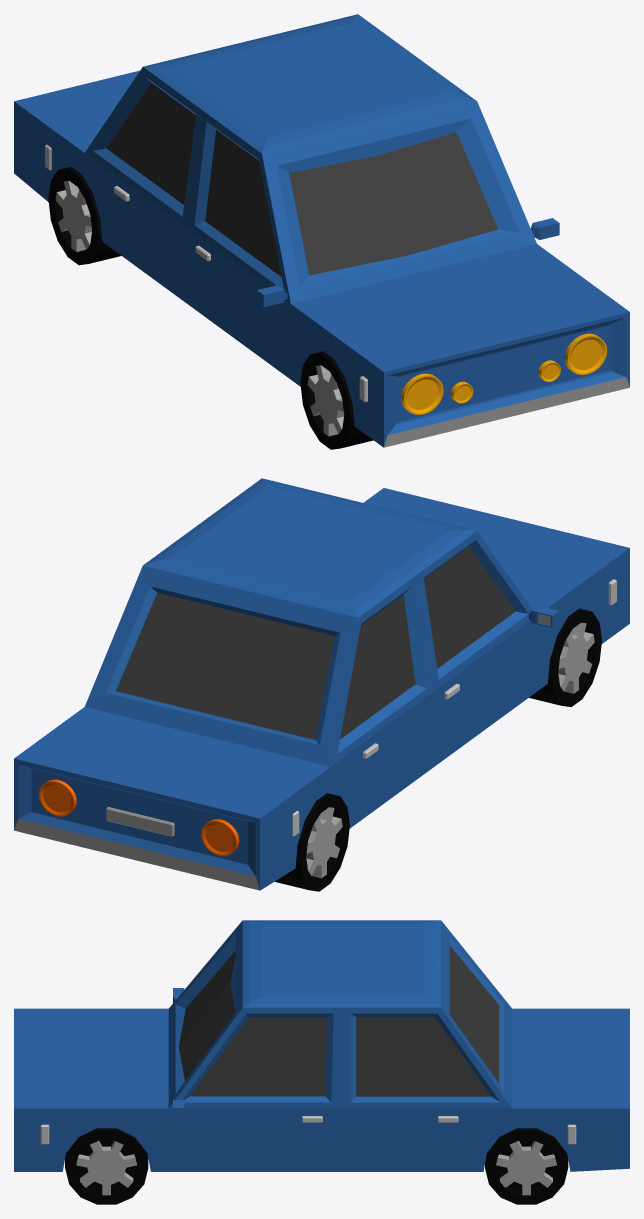
File: FR WHEEL.001_BODY.024.glb
3 renders of one model, top to bottom at view 1: azimuth 30°, elevation 25°; view 2: azimuth 150°, elevation 25°; view 3: azimuth 270°, elevation 25°, orthographic. The views are drawn at different scales.
Parts seen in each view (by area): view 1: FR WHEEL.001_BODY.024_0; view 2: FR WHEEL.001_BODY.024_0; view 3: FR WHEEL.001_BODY.024_0.
Boxes of the visible parts, x1,y1,x2,y2 form: FR WHEEL.001_BODY.024_0: (14,14,629,449); FR WHEEL.001_BODY.024_0: (14,478,629,891); FR WHEEL.001_BODY.024_0: (14,920,629,1204).
Size of the model in its own units: 0.3206 by 0.2399 by 0.6944.
1 material, 1 textured.
